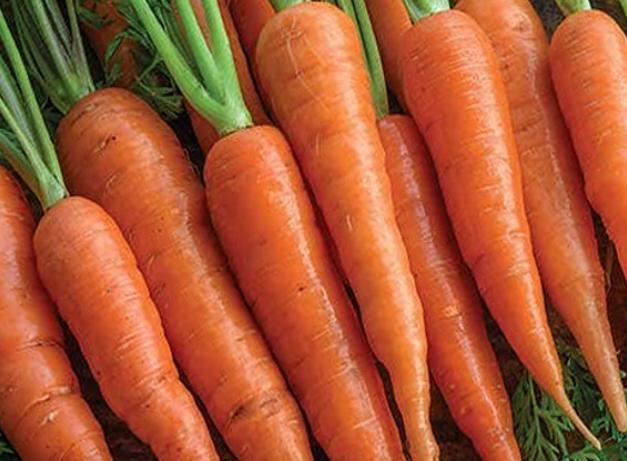carrot: (245, 4, 627, 441), (48, 75, 427, 461), (0, 166, 229, 461)
